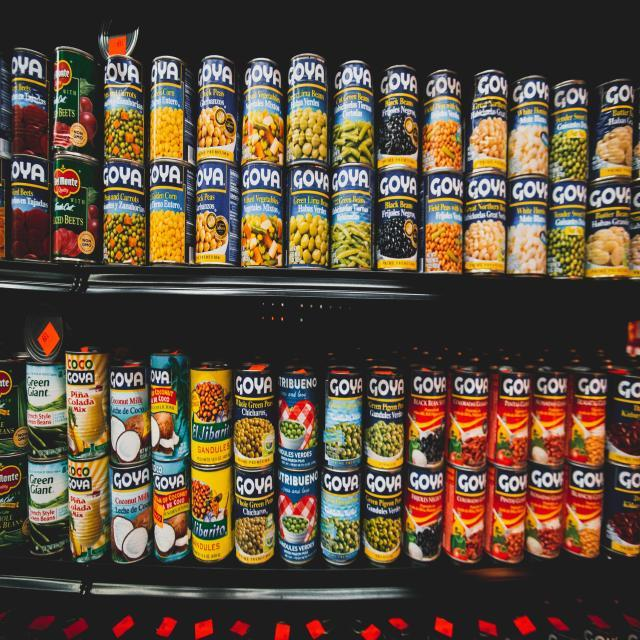Imprecise: (18, 300, 68, 368), (96, 5, 146, 62)
